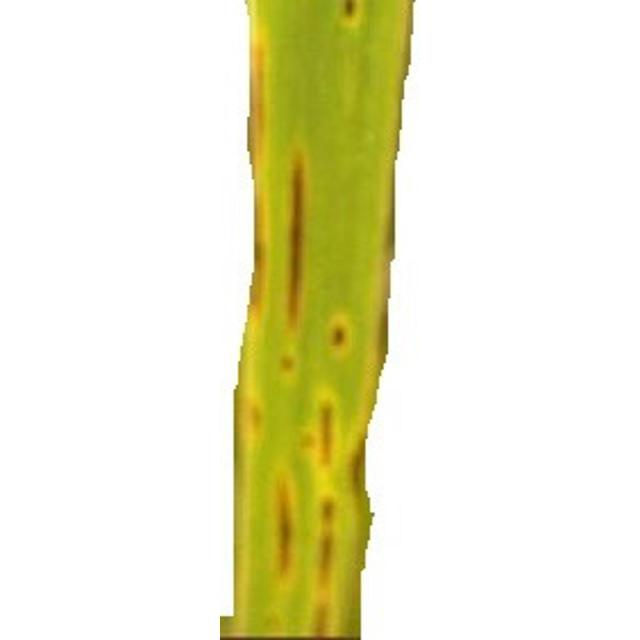Brown spot: (211, 0, 432, 640)
